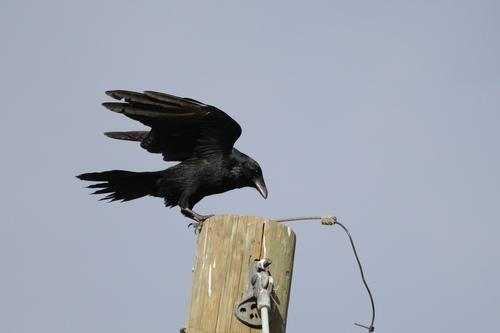bird: (71, 84, 273, 221)
